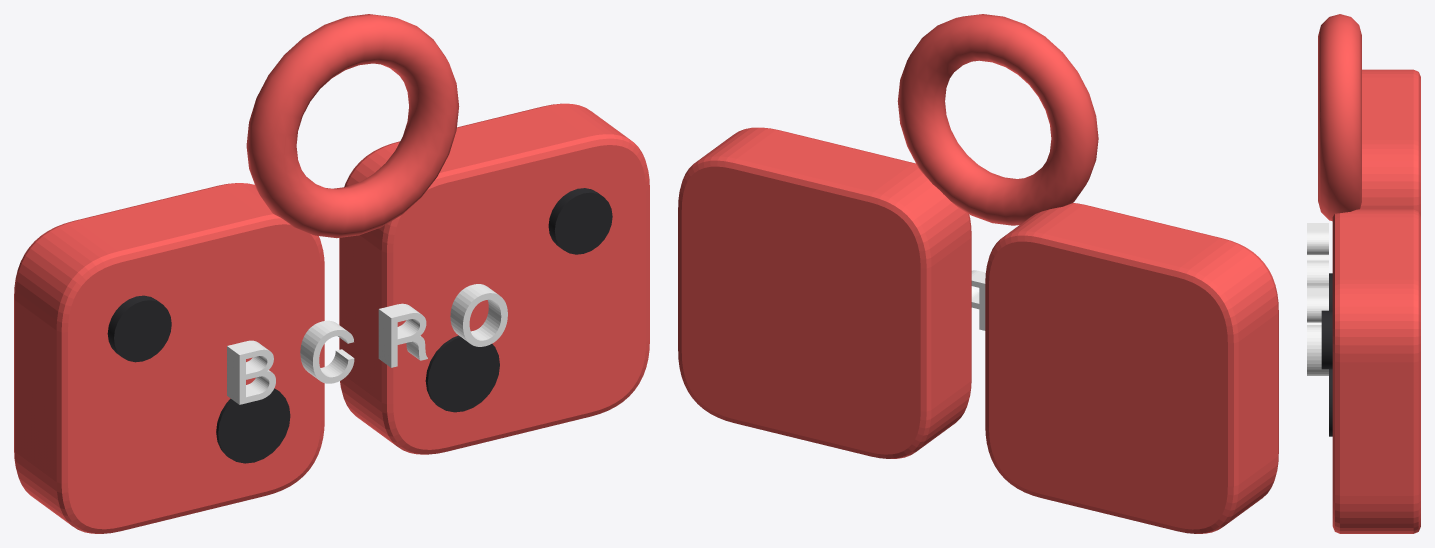
File: 3d-switch-clicker.glb
3 renders of one model, left to right at view 1: azimuth 30°, elevation 25°; view 2: azimuth 150°, elevation 25°; view 3: azimuth 270°, elevation 25°, orthographic. The views are drawn at different scales.
Bounding box in the file's own units: 32.8 × 24.1 × 6.2.
